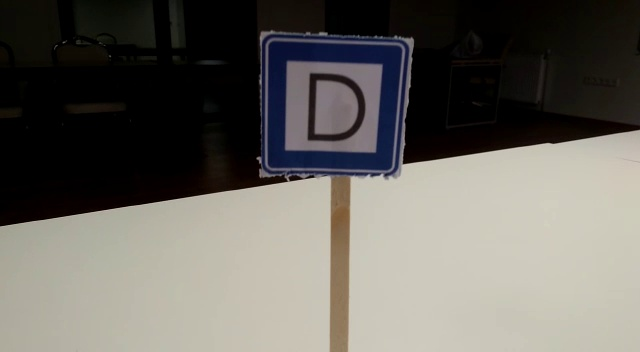durak: (261, 38, 407, 177)
